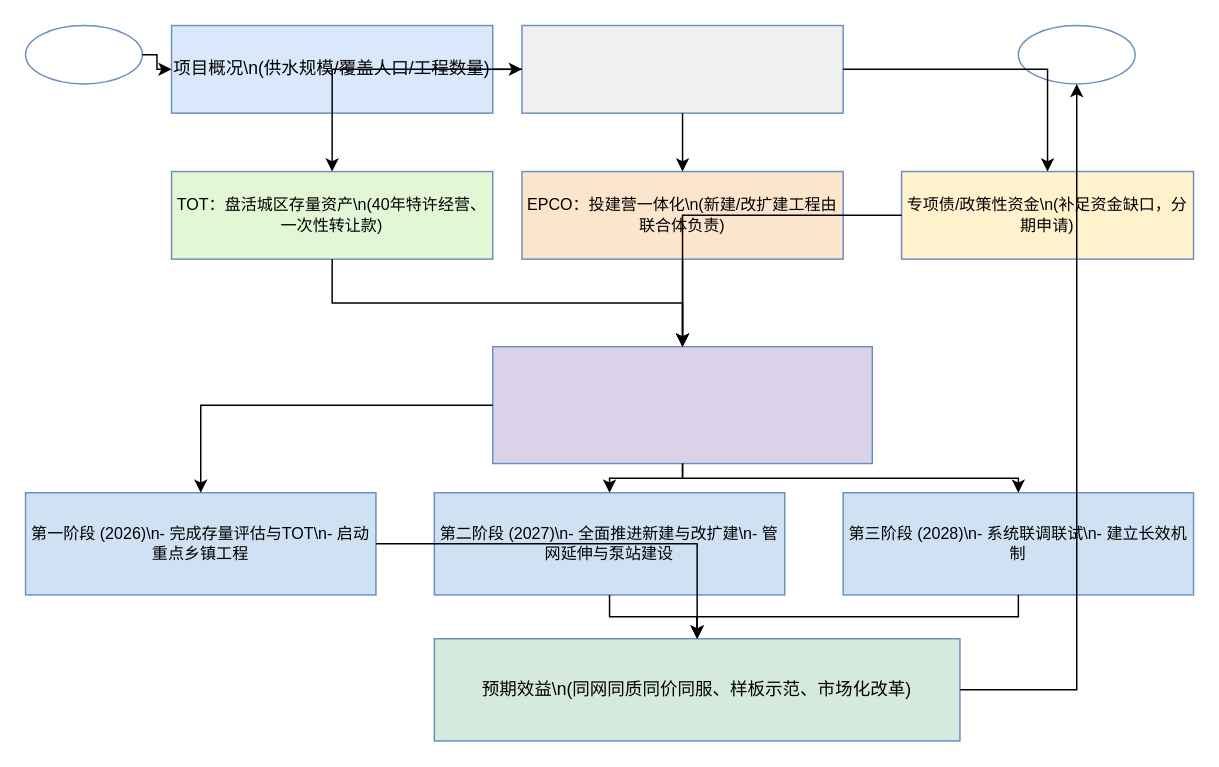
This 1219x767 diagram has some shape labels left out. The shapes that lost their labels are listed below. From the top down, each one's centre as x and y in pixels, then its label:
point 83,54: 开始
point 681,68: 合作模式\n(引入社会资本 + TOT/EPCO + 专项债)
point 1076,54: 结束
point 681,404: 分期滚动实施\n(三期：2026–2028)
